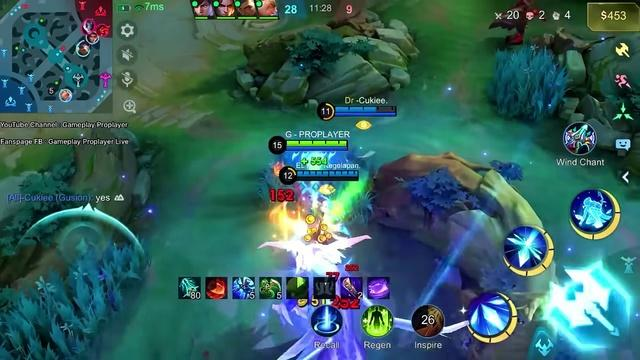Adc_Aliado: (79, 39, 93, 49)
Arbusto: (0, 239, 147, 360), (489, 45, 570, 121)
Buff_blue: (260, 236, 368, 359)
Exp_Aliado: (59, 87, 72, 102)
Exp_Enemigo: (83, 18, 96, 33)
HP_Aliado: (295, 171, 357, 177), (335, 106, 396, 111)
HP_Heroe_Principal: (287, 141, 348, 146)
Jungla_Aliado: (77, 43, 90, 57)
Jungla_Enemigo: (96, 25, 109, 39)
Lord_Activo: (98, 70, 109, 87)
Mana: (286, 146, 349, 150), (334, 113, 395, 116)
Mid_Enemigo: (79, 21, 92, 34)
Minimapa: (0, 0, 113, 113)
Roamer_Aliado: (87, 31, 100, 44)
Skill1: (467, 294, 516, 343)
Skill2: (506, 226, 556, 275)
Skill3: (571, 189, 621, 242)
